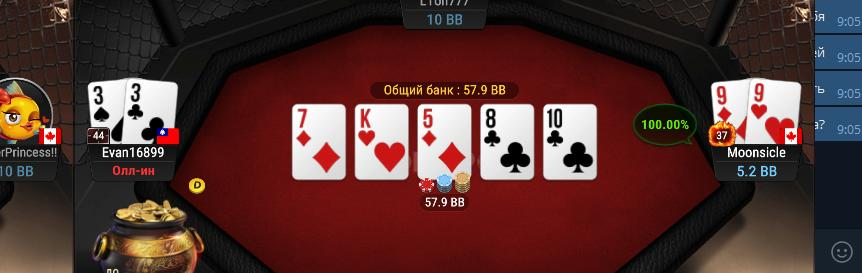10c: (543, 105, 597, 180)
3c: (125, 78, 176, 146)
3s: (86, 80, 125, 142)
5d: (418, 104, 471, 180)
7d: (293, 106, 346, 178)
8c: (480, 106, 532, 177)
9d: (709, 79, 749, 145)
9h: (748, 78, 801, 147)
Kh: (356, 103, 409, 180)
